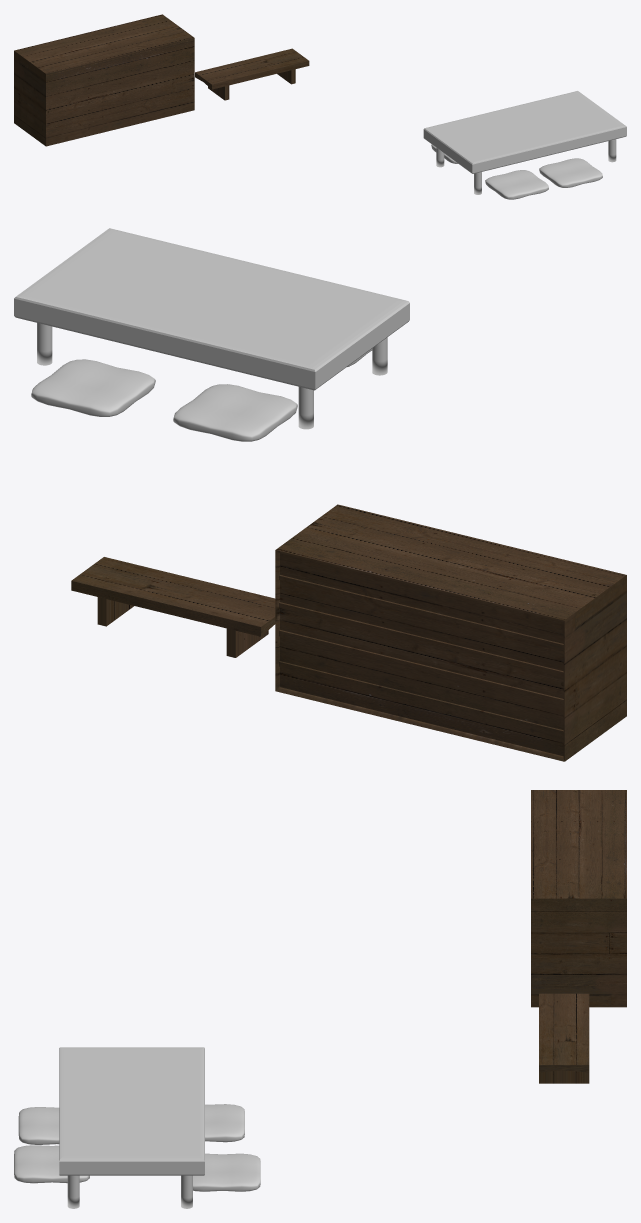
Rendered from Muebles.fbx.
3 renders of one model, top to bottom at view 1: azimuth 30°, elevation 25°; view 2: azimuth 150°, elevation 25°; view 3: azimuth 270°, elevation 25°, orthographic. The views are drawn at different scales.
Visible parts, largest first — view 1: Mesa_creo.001, Mesa, Cojines, Mesa_Pequena; view 2: Mesa_creo.001, Mesa, Cojines, Mesa_Pequena; view 3: Mesa_creo.001, Mesa, Cojines, Mesa_Pequena.
Boxes of the visible parts, box(x1,y1,x2,y2) form: Mesa_creo.001: box(14, 14, 194, 146); Mesa: box(423, 91, 626, 194); Cojines: box(431, 144, 602, 199); Mesa_Pequena: box(195, 48, 309, 100); Mesa_creo.001: box(275, 504, 626, 761); Mesa: box(14, 228, 409, 429); Cojines: box(31, 348, 372, 441); Mesa_Pequena: box(71, 557, 275, 657); Mesa_creo.001: box(531, 790, 626, 1007); Mesa: box(59, 1047, 204, 1208); Cojines: box(14, 1104, 260, 1191); Mesa_Pequena: box(539, 993, 589, 1083).
Bounding box in the file's own units: 2905 × 497 × 2429.
